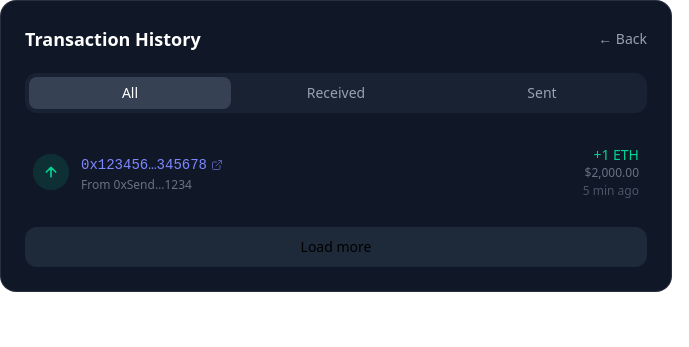
TxHistory — empty states › shows filter-no-match message when list has items but filter excludes all
Click the button "Sent": (542, 93) [441,77,643,109]
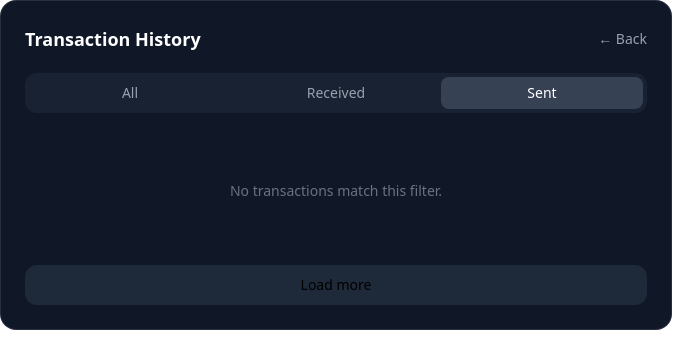
expect the text "No transactions match this filter." is shown: met, box [230,181,442,200]
